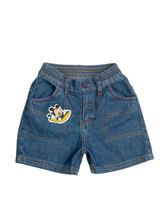clothoes: (15, 61, 157, 173)
